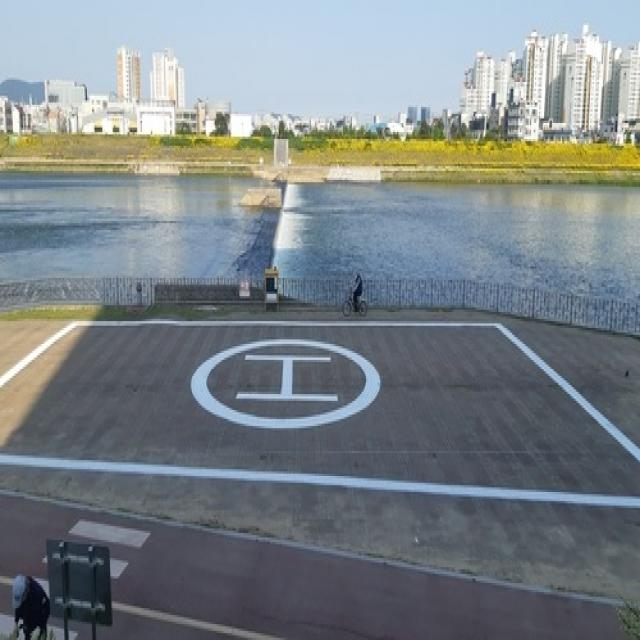helipad: (185, 328, 382, 433)
